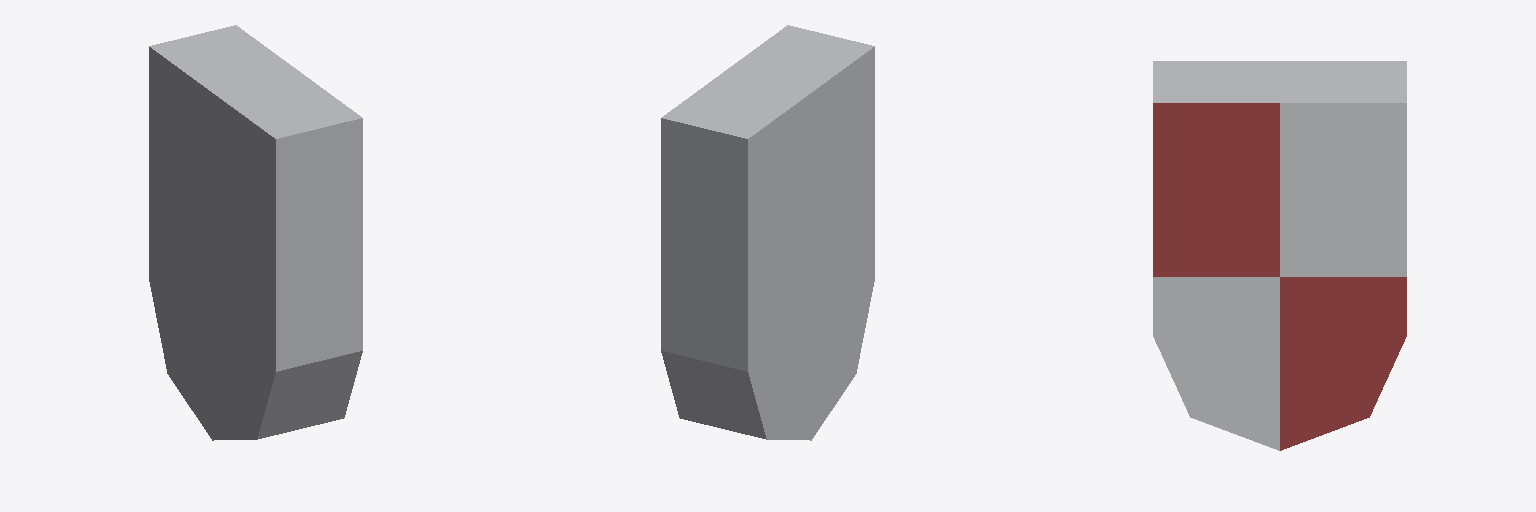
The model's file is Shield_Red_01.obj.
The picture shows the model from 3 angles: view 1: azimuth 30°, elevation 25°; view 2: azimuth 150°, elevation 25°; view 3: azimuth 270°, elevation 25°; orthographic projection.
Visible parts, largest first — view 1: Mesh1 Shield_Red Model; view 2: Mesh1 Shield_Red Model; view 3: Mesh1 Shield_Red Model.
Boxes of the visible parts, x1,y1,x2,y2 form: Mesh1 Shield_Red Model: [149, 25, 362, 440]; Mesh1 Shield_Red Model: [661, 25, 874, 440]; Mesh1 Shield_Red Model: [1153, 61, 1406, 450].
Size of the model in its own units: 0.2 by 0.7625 by 0.5047.